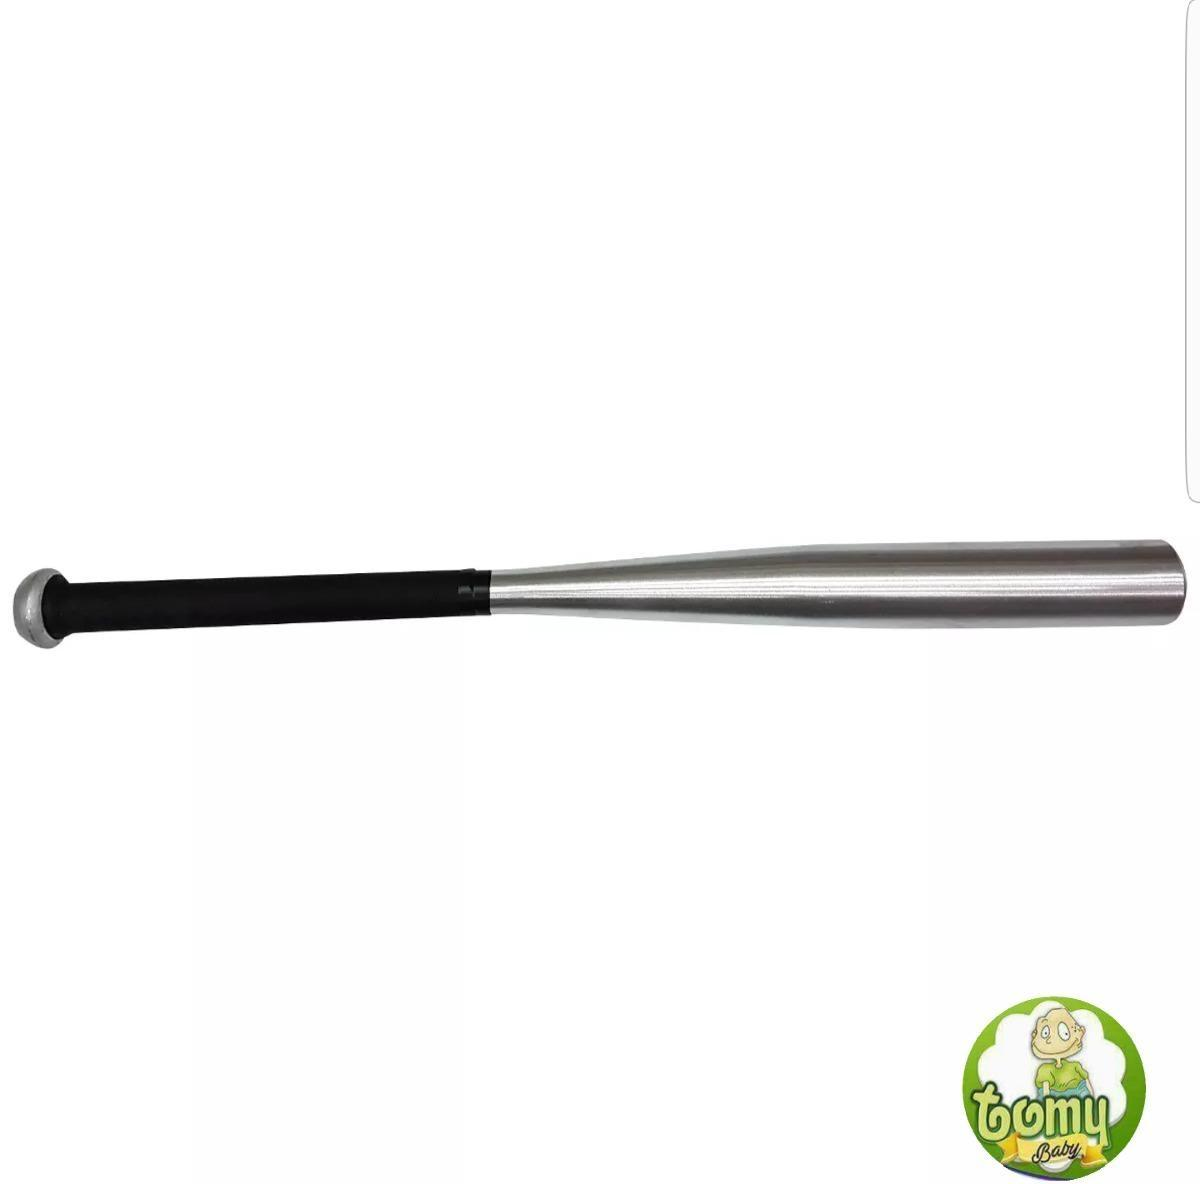Baseball-Bat: (0, 458, 1200, 653)
